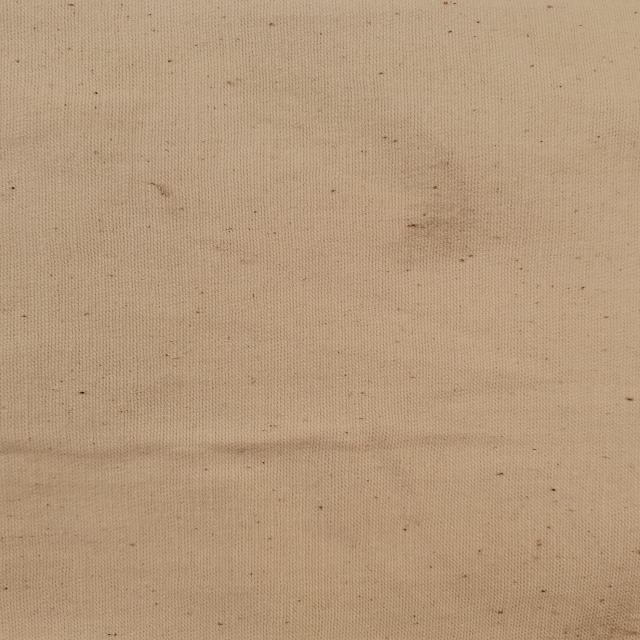taaaches: (397, 155, 491, 261), (148, 179, 183, 202)
